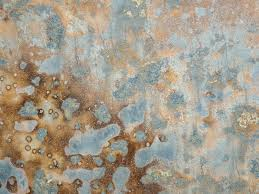rust: (3, 43, 158, 193)
